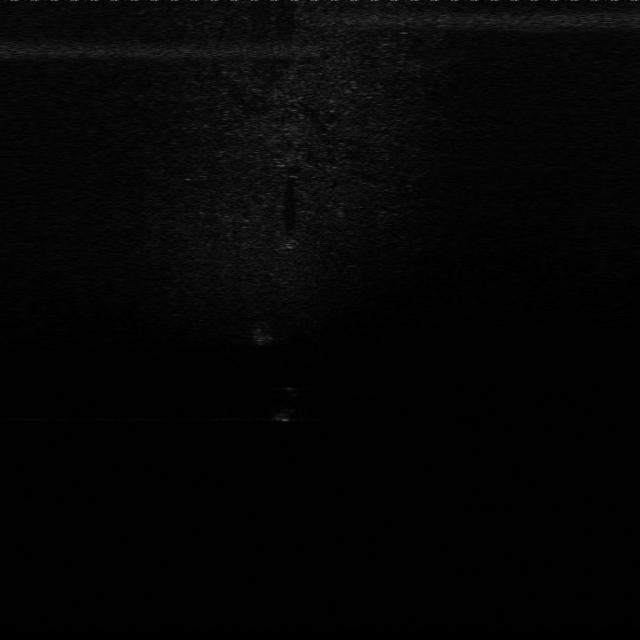ball: (272, 230, 308, 256)
circle cage: (241, 318, 278, 348)
tyre: (264, 379, 308, 424)
